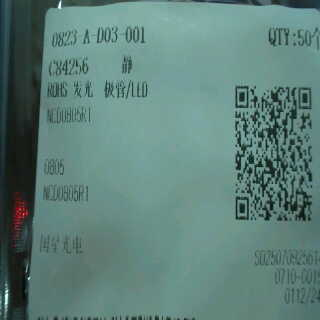LED: (70, 76, 152, 99)
